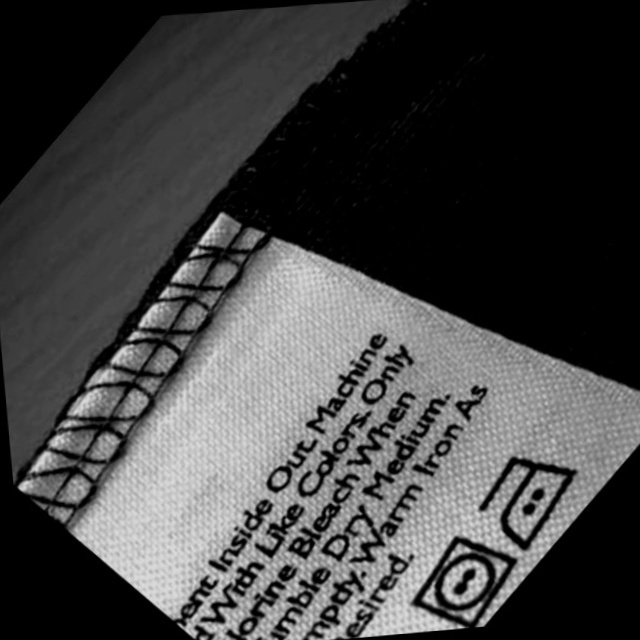iron_medium: (476, 449, 590, 551)
tumble_dry_medium: (408, 532, 526, 631)
